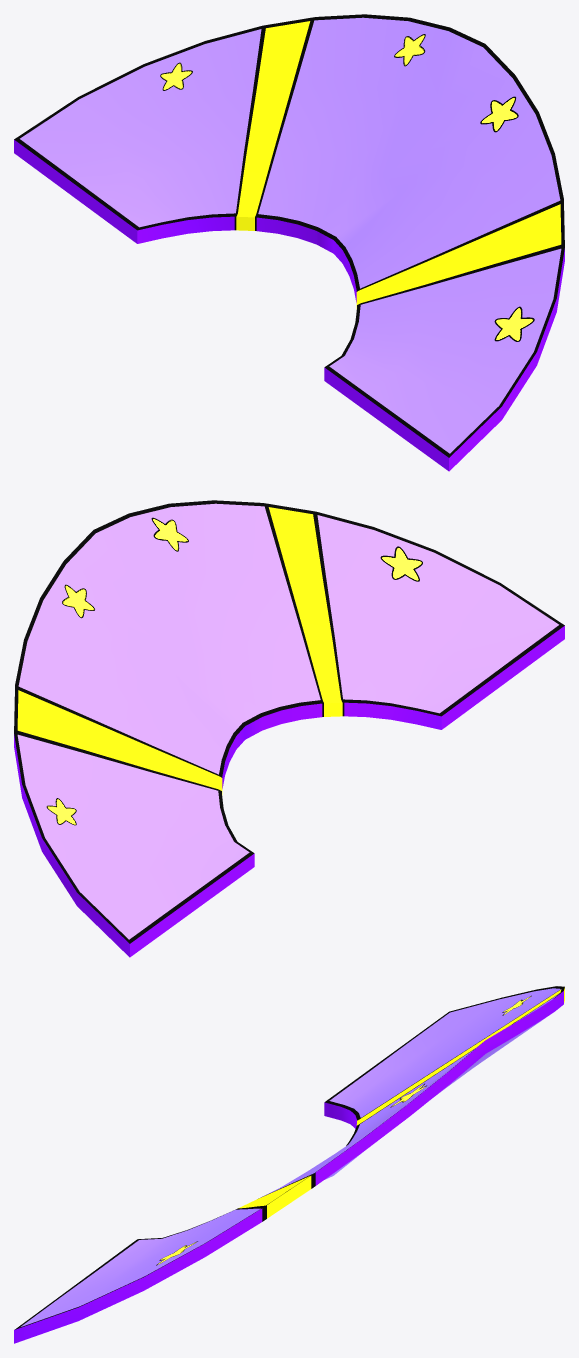
Rendered from cocobay_curve.gltf.
The picture shows the model from 3 angles, top to bottom: view 1: azimuth 30°, elevation 25°; view 2: azimuth 150°, elevation 25°; view 3: azimuth 330°, elevation 25°; orthographic projection.
Parts seen in each view (by area): view 1: cocobay_curve_glb; view 2: cocobay_curve_glb; view 3: cocobay_curve_glb.
Boxes of the visible parts, x1,y1,x2,y2 form: cocobay_curve_glb: (14, 14, 564, 471); cocobay_curve_glb: (14, 500, 564, 957); cocobay_curve_glb: (14, 986, 564, 1343).
Size of what is drawn, in the model's own units: 4.74 by 3.67 by 14.03.
2 materials, 2 textured.
